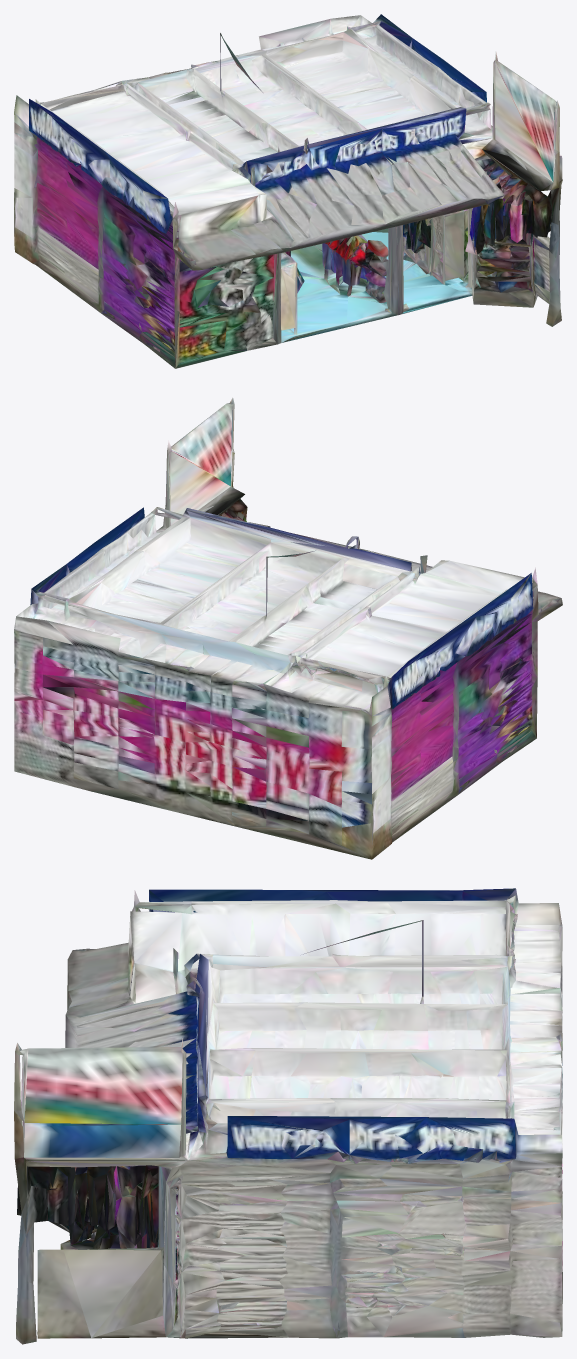
File: shop.glb
3 views of the same model, one above another, from view 1: azimuth 30°, elevation 25°; view 2: azimuth 150°, elevation 25°; view 3: azimuth 270°, elevation 25° (orthographic). The views are drawn at different scales.
Parts seen in each view (by area): view 1: Environment; view 2: Environment; view 3: Environment.
Boxes of the visible parts, x1=… form: Environment: x1=14, y1=14, x2=562, y2=368; Environment: x1=14, y1=397, x2=562, y2=859; Environment: x1=14, y1=888, x2=562, y2=1344.
Size of the model in its own units: 1.99 by 1.23 by 2.
Materials: 1 (1 with a texture image).
